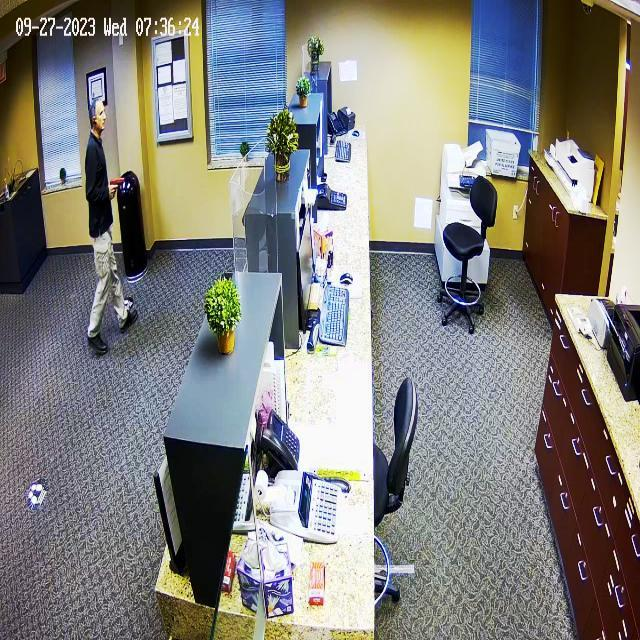Gun: (105, 168, 136, 202)
